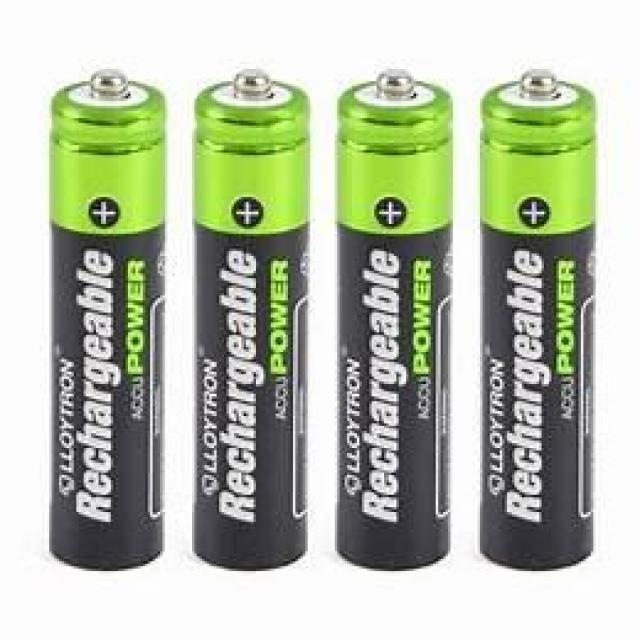battery: (187, 67, 311, 568), (332, 61, 453, 574), (478, 69, 599, 571), (46, 69, 166, 572)
